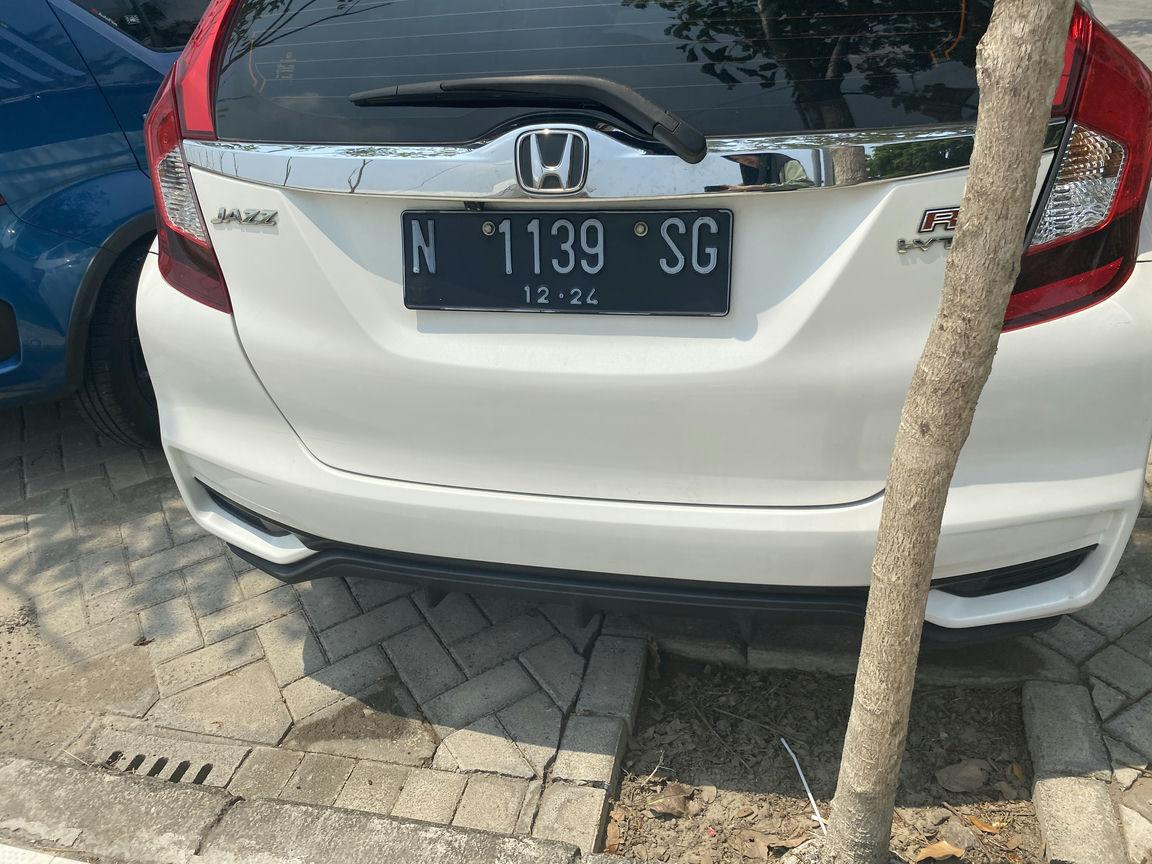plat: (403, 209, 734, 317)
